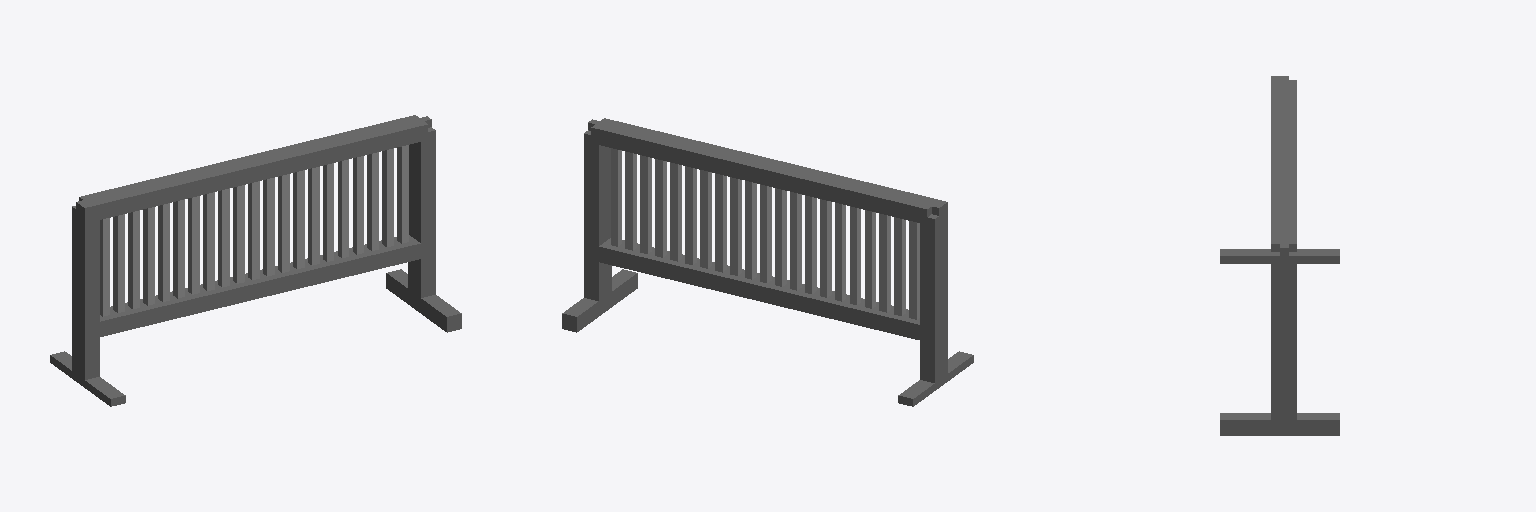
The picture shows the model from 3 angles: view 1: azimuth 30°, elevation 25°; view 2: azimuth 150°, elevation 25°; view 3: azimuth 270°, elevation 25°; orthographic projection.
Visible parts, largest first — view 1: object 1; view 2: object 1; view 3: object 1.
Boxes of the visible parts, x1=… form: object 1: x1=50, y1=115, x2=461, y2=406; object 1: x1=562, y1=118, x2=973, y2=406; object 1: x1=1220, y1=76, x2=1339, y2=435.
Bounding box in the file's own units: 4.7 × 2.4 × 1.4.
1 materials, 1 textured.